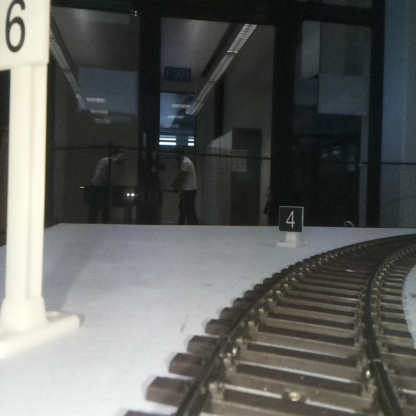black-stop-4: (278, 207, 302, 245)
